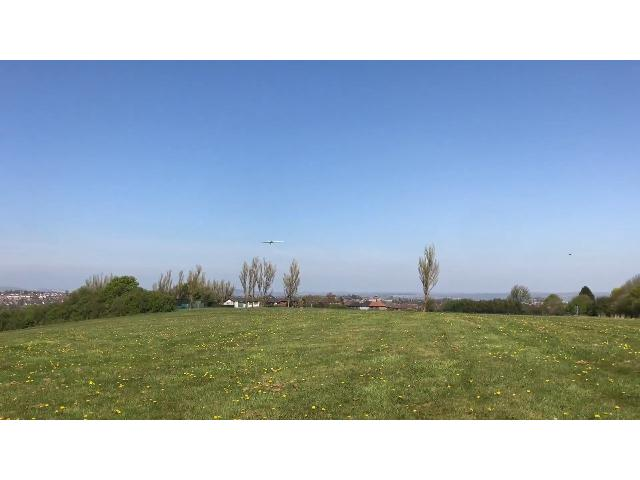Anti-Drone: (253, 236, 295, 248)
